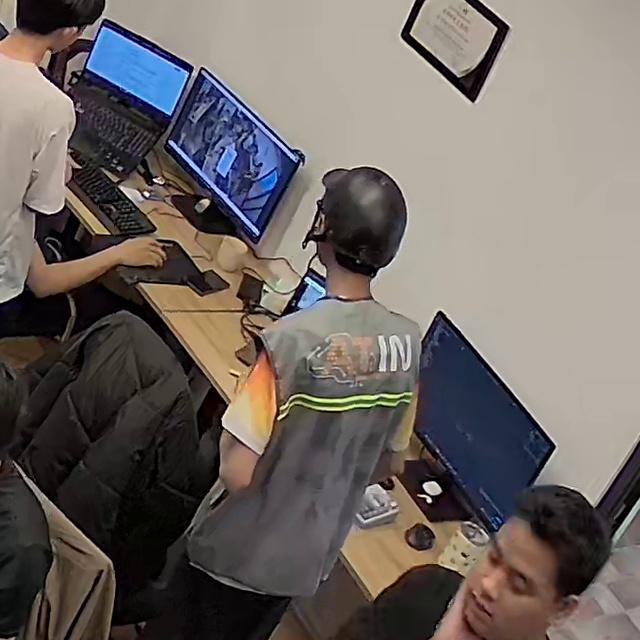helmet: (310, 166, 408, 270)
no_helmet: (504, 485, 610, 597)
none: (331, 556, 603, 639)
vest: (188, 298, 421, 601)
